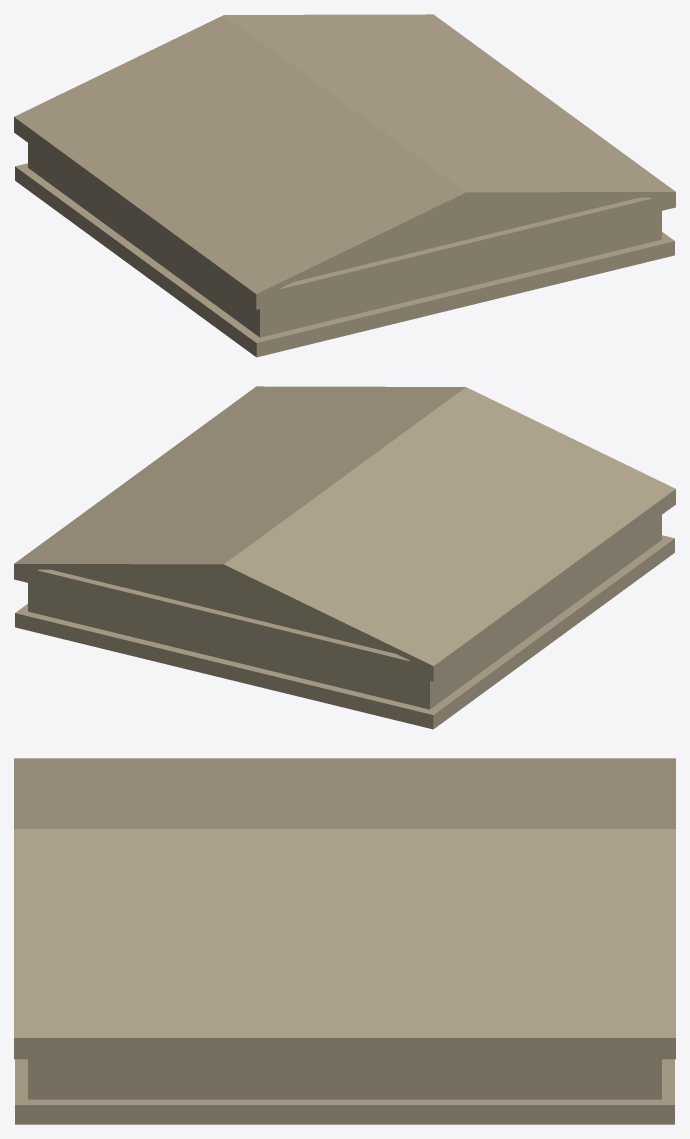
File: Monument_Roof.fbx
3 renders of one model, top to bottom at view 1: azimuth 30°, elevation 25°; view 2: azimuth 150°, elevation 25°; view 3: azimuth 270°, elevation 25°, orthographic. The views are drawn at different scales.
Parts seen in each view (by area): view 1: Monument_Roof; view 2: Monument_Roof; view 3: Monument_Roof.
Part boxes in pixels (box(x1,y1,x2,y2)): Monument_Roof: box(14, 14, 675, 357); Monument_Roof: box(14, 386, 675, 729); Monument_Roof: box(14, 758, 675, 1124).
Size of the model in its own units: 635 by 635 by 165.
